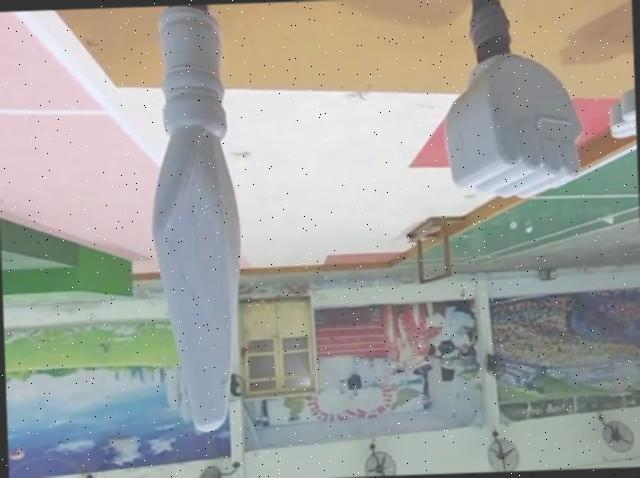Fist: (439, 0, 582, 204)
Hand: (600, 0, 636, 144)
Sph: (138, 3, 248, 424)
